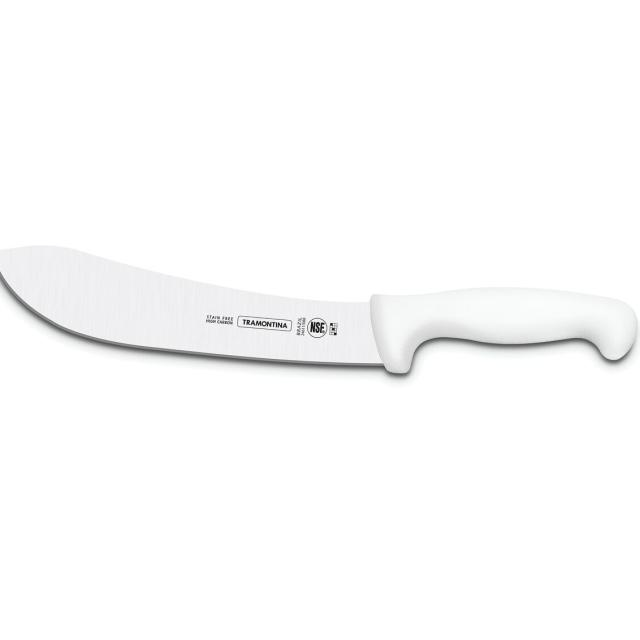Weapon: (0, 246, 637, 373)
